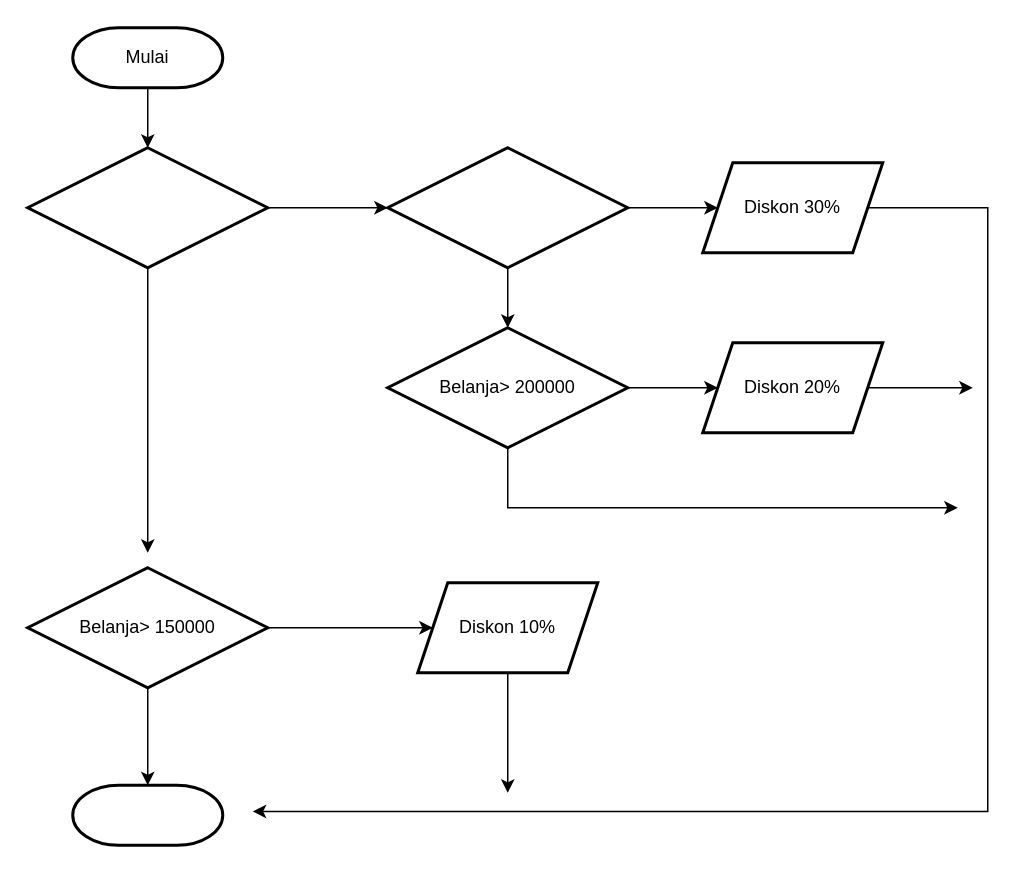
Some shapes in this 1026 by 872 pixel diagram are drawn without their labels. Here are the shapes that lost their labels. From the top down, the centre of each, then its label:
At pixel 147 207: "Pembelanja".
At pixel 507 207: "Belanja> 500000".
At pixel 147 814: "Selesai".
